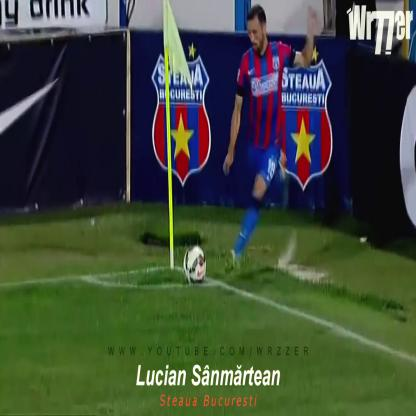corner kick: (138, 1, 294, 315)
